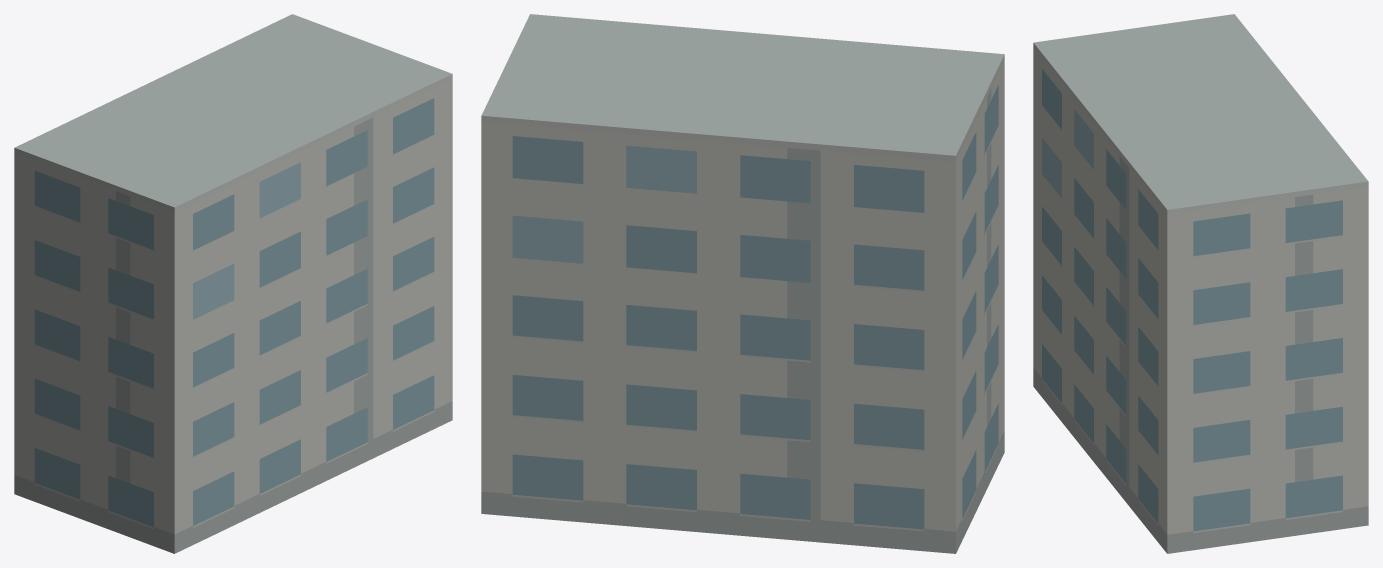
The model's file is survey-upis-32768225.glb.
3 renders of one model, left to right at view 1: azimuth 30°, elevation 25°; view 2: azimuth 150°, elevation 25°; view 3: azimuth 270°, elevation 25°, orthographic. The views are drawn at different scales.
Parts seen in each view (by area): view 1: survey-upis-32768225.tmp; view 2: survey-upis-32768225.tmp; view 3: survey-upis-32768225.tmp.
Boxes of the visible parts, box(x1,y1,x2,y2) form: survey-upis-32768225.tmp: box(14, 14, 452, 553); survey-upis-32768225.tmp: box(481, 14, 1004, 553); survey-upis-32768225.tmp: box(1033, 14, 1368, 553).
Size of the model in its own units: 18.94 by 15.5 by 13.7.
